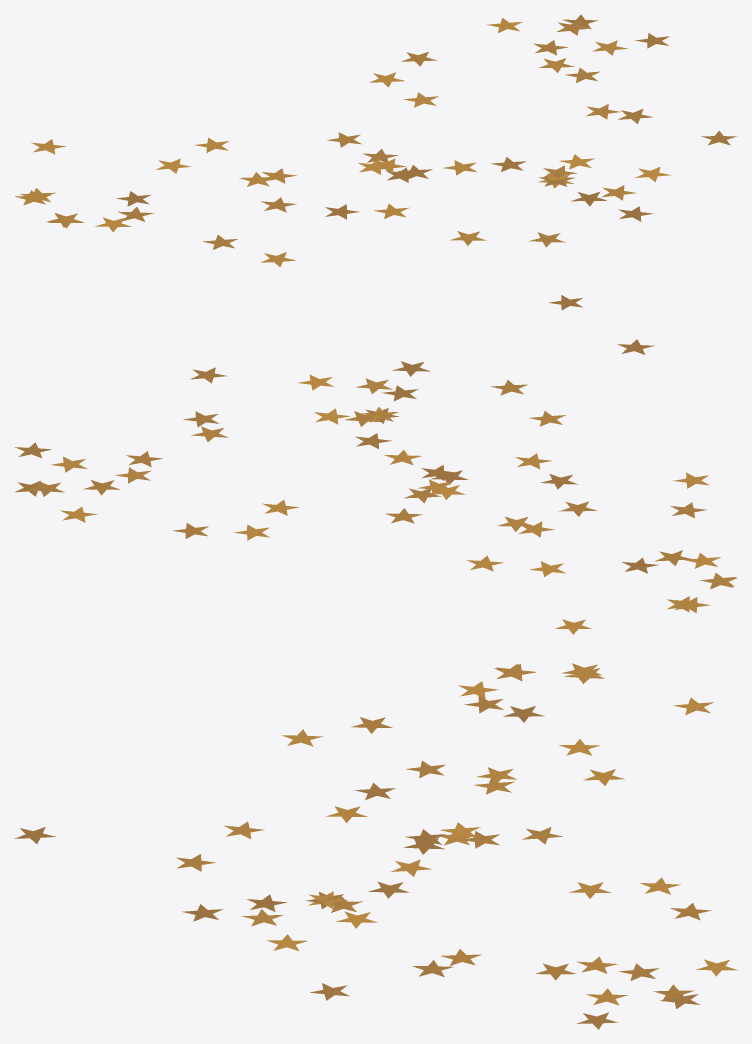
Rendered from choco_heart2.glb.
3 views of the same model, one above another, from view 1: azimuth 30°, elevation 25°; view 2: azimuth 150°, elevation 25°; view 3: azimuth 270°, elevation 25° (orthographic). The views are drawn at different scales.
Size of the model in its own units: 2.69 by 0 by 2.25.
